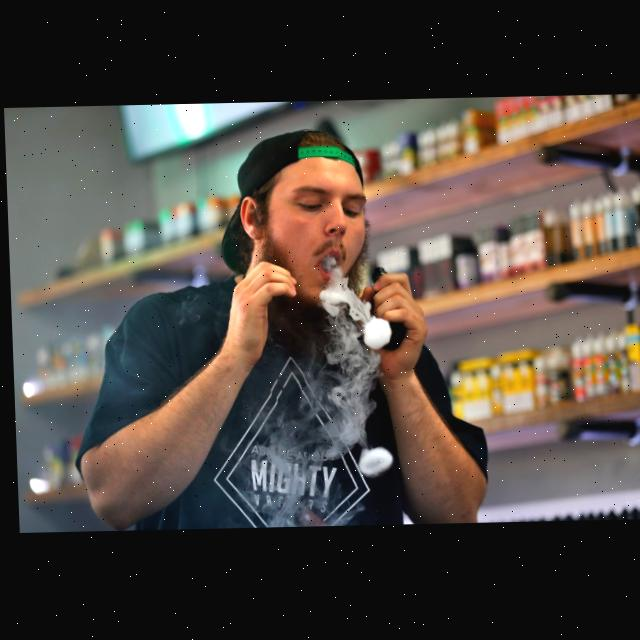vape: (365, 268, 405, 351)
